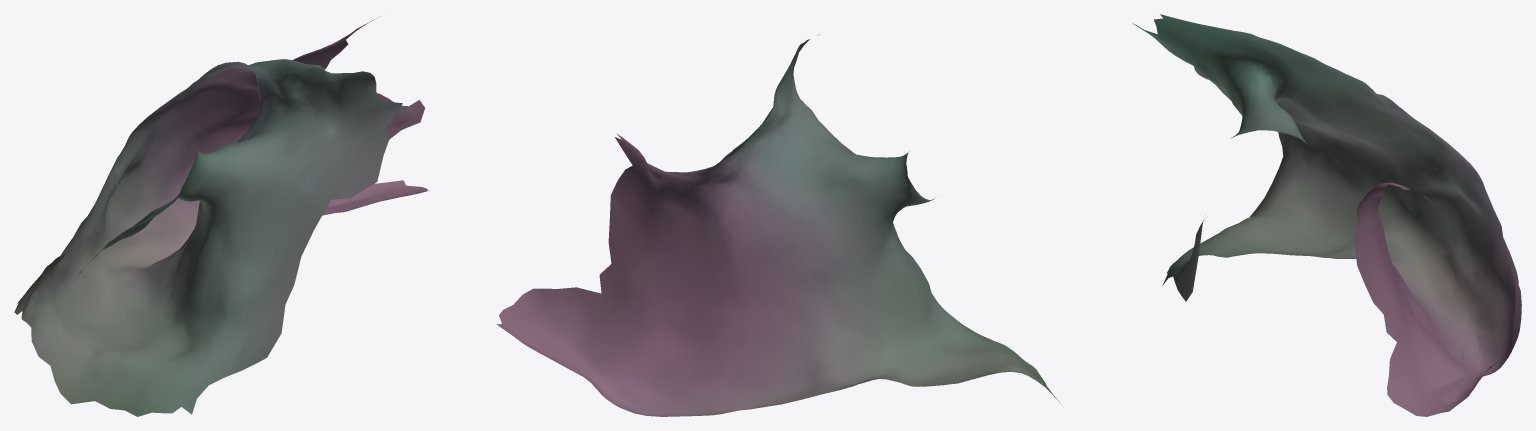
Rendered from LODS_Cloud_global_14.glb.
3 views of the same model, side by side, from view 1: azimuth 30°, elevation 25°; view 2: azimuth 150°, elevation 25°; view 3: azimuth 270°, elevation 25° (orthographic). The views are drawn at different scales.
Parts seen in each view (by area): view 1: LOD0; view 2: LOD0; view 3: LOD0.
Boxes of the visible parts, box(x1,y1,x2,y2) form: LOD0: box(14, 18, 429, 416); LOD0: box(496, 34, 1061, 416); LOD0: box(1132, 14, 1521, 416).
Size of what is drawn, in the model's own units: 0.2592 by 0.1435 by 0.1618.
